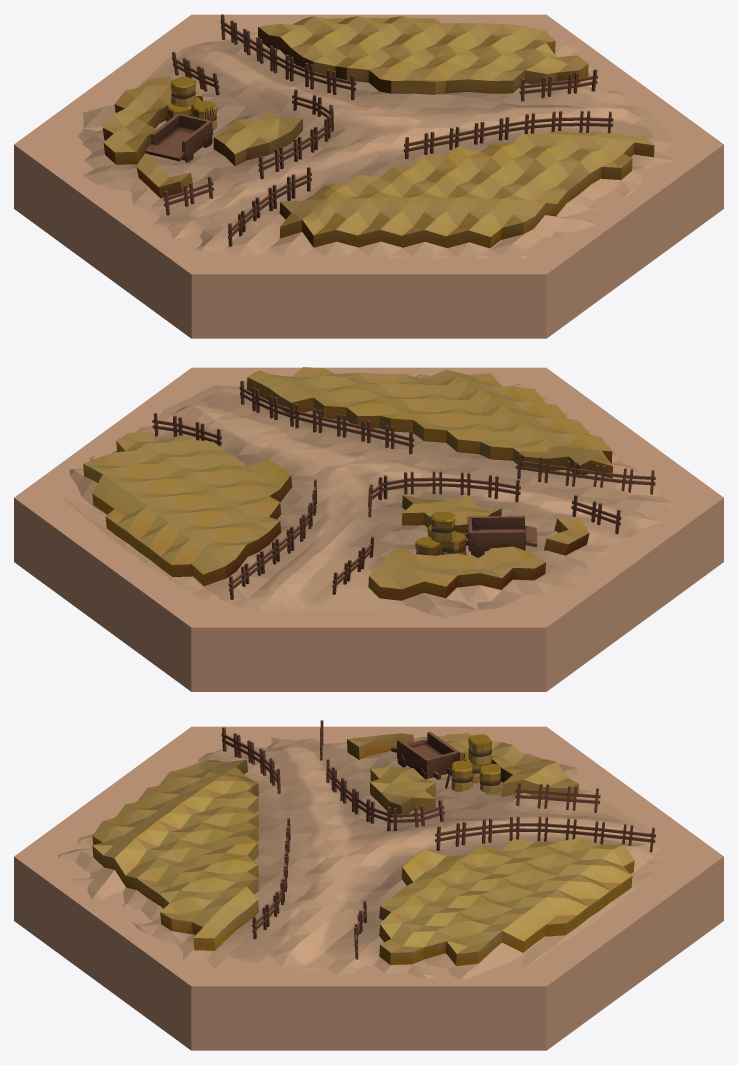
Rendered from wheatfield.glb.
3 renders of one model, top to bottom at view 1: azimuth 30°, elevation 25°; view 2: azimuth 150°, elevation 25°; view 3: azimuth 270°, elevation 25°, orthographic.
Parts seen in each view (by area): view 1: Cylinder_012_001; view 2: Cylinder_012_001; view 3: Cylinder_012_001.
Part boxes in pixels (x1,y1,x2,y2): Cylinder_012_001: (14,14,723,338); Cylinder_012_001: (14,367,723,691); Cylinder_012_001: (14,720,723,1050).
Size of the model in its own units: 17.32 by 3.68 by 20.
Materials: 6 (5 with a texture image).
